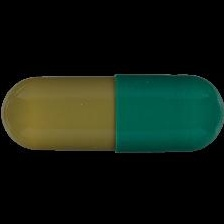0093-0756: (0, 0, 224, 224)
